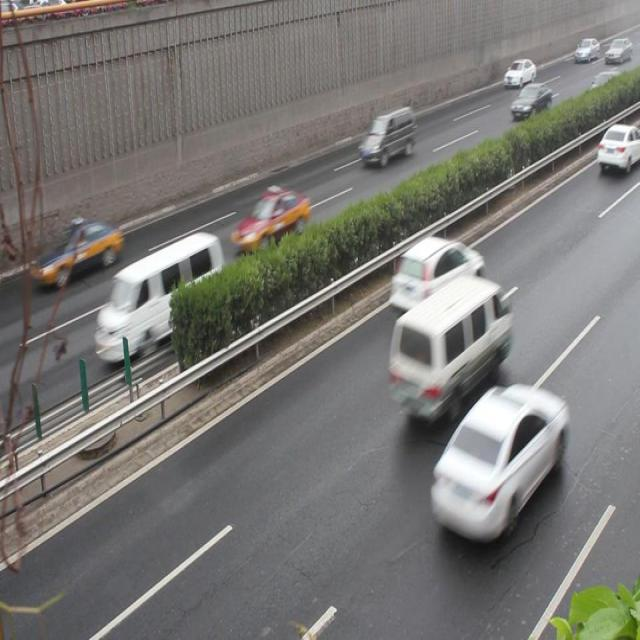car: (428, 383, 565, 539), (390, 235, 482, 315), (34, 217, 121, 286), (231, 186, 309, 250), (595, 122, 640, 175), (581, 70, 627, 114), (508, 82, 550, 121)
truck: (92, 231, 223, 362), (388, 280, 509, 411), (358, 105, 415, 166)
